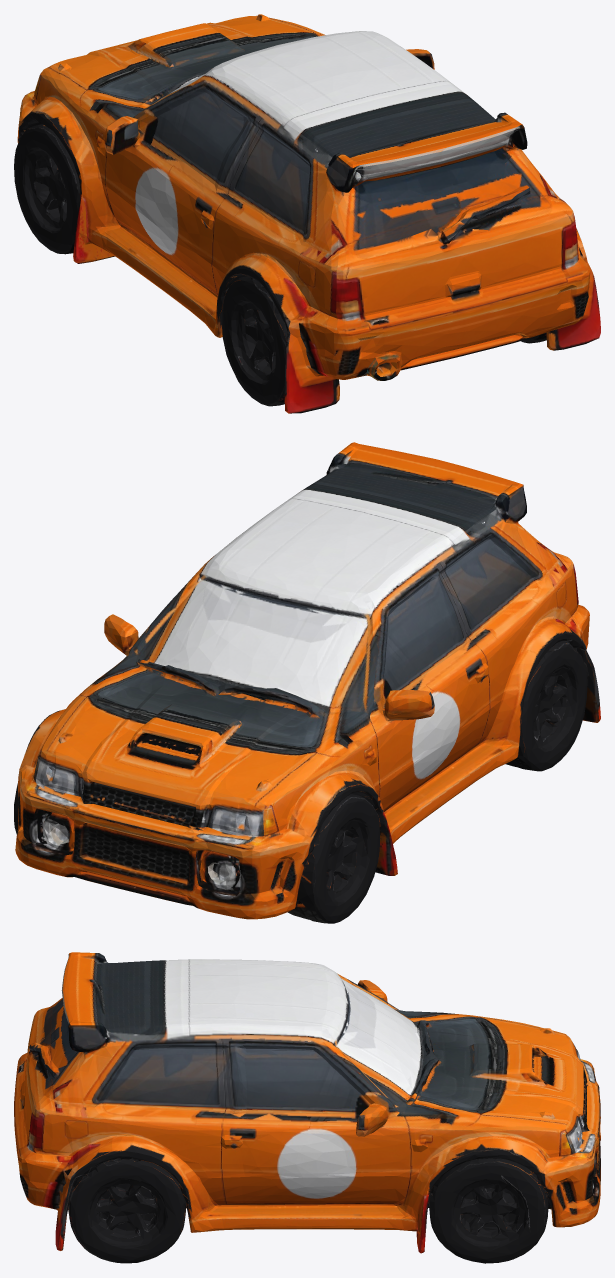
The model's file is hatch.glb.
The picture shows the model from 3 angles, top to bottom: view 1: azimuth 30°, elevation 25°; view 2: azimuth 150°, elevation 25°; view 3: azimuth 270°, elevation 25°; orthographic projection. The views are drawn at different scales.
Parts seen in each view (by area): view 1: hatch_tex; view 2: hatch_tex; view 3: hatch_tex.
Boxes of the visible parts, <box> form: hatch_tex: <box>14,14,600,413</box>; hatch_tex: <box>14,442,600,923</box>; hatch_tex: <box>14,952,600,1263</box>.
Bounding box in the file's own units: 2.53 × 1.8 × 4.5.
Materials: 1 (1 with a texture image).
